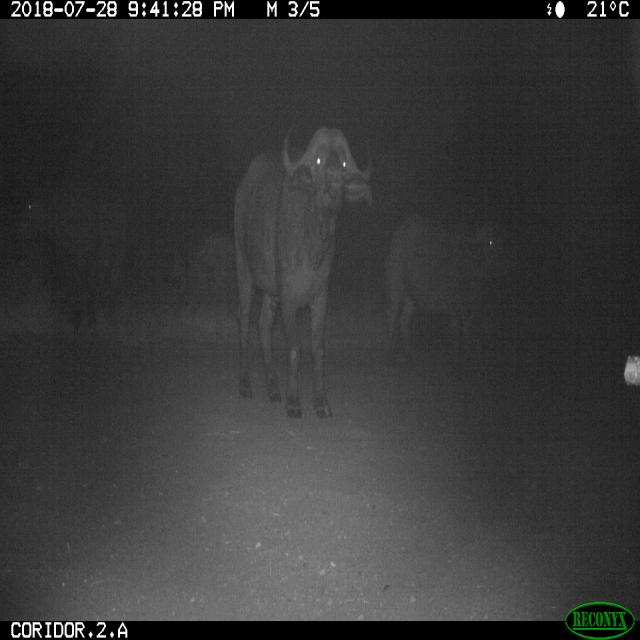buffalo: (234, 116, 380, 420)
